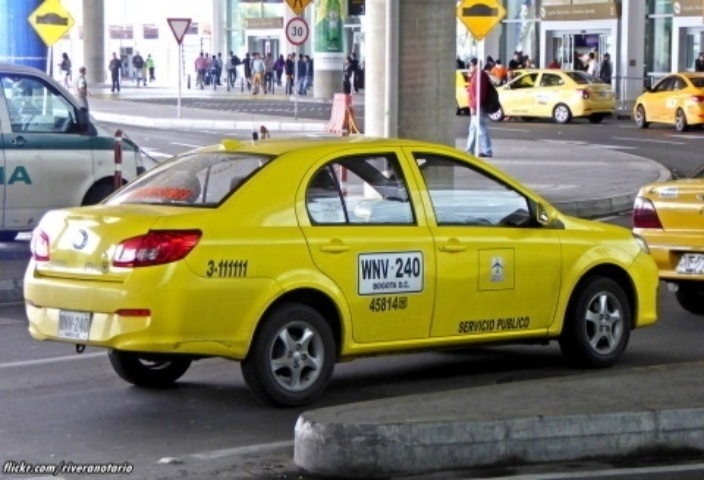taxi: (38, 116, 672, 400), (619, 153, 704, 291), (482, 64, 612, 132), (629, 57, 704, 122)
van: (1, 58, 165, 249)
